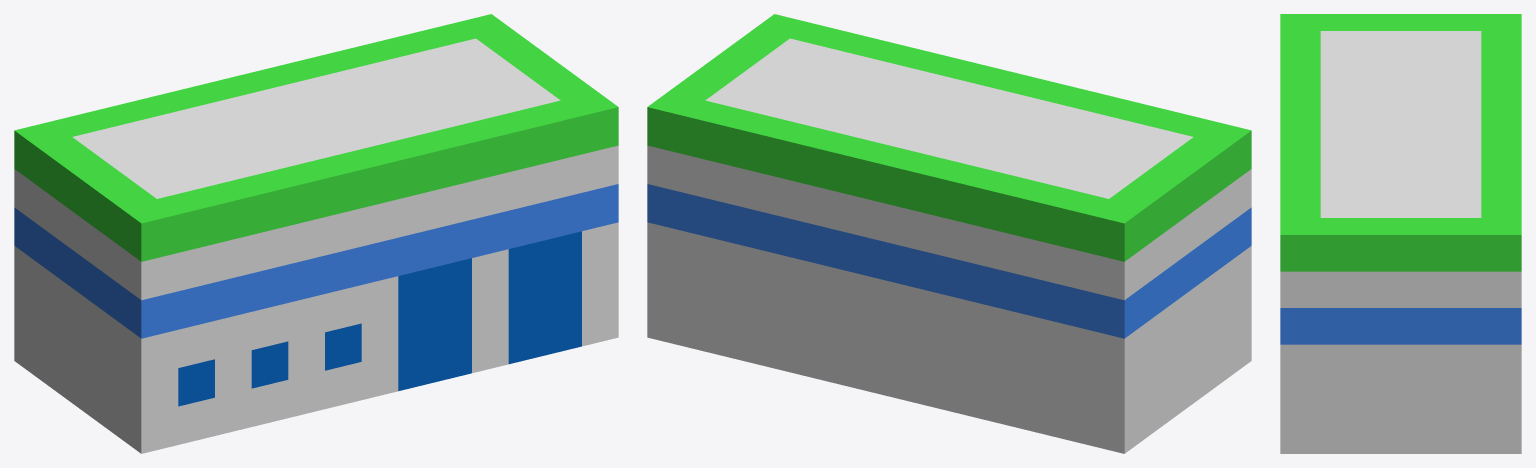
The model's file is FamilyMart.fbx.
3 views of the same model, side by side, from view 1: azimuth 30°, elevation 25°; view 2: azimuth 150°, elevation 25°; view 3: azimuth 270°, elevation 25° (orthographic). The views are drawn at different scales.
Parts seen in each view (by area): view 1: FamilyMart; view 2: FamilyMart; view 3: FamilyMart.
Boxes of the visible parts, <box> form: FamilyMart: <box>14,14,618,453</box>; FamilyMart: <box>647,14,1251,453</box>; FamilyMart: <box>1280,14,1521,453</box>.
Bounding box in the file's own units: 8.36 × 3.86 × 3.86.
